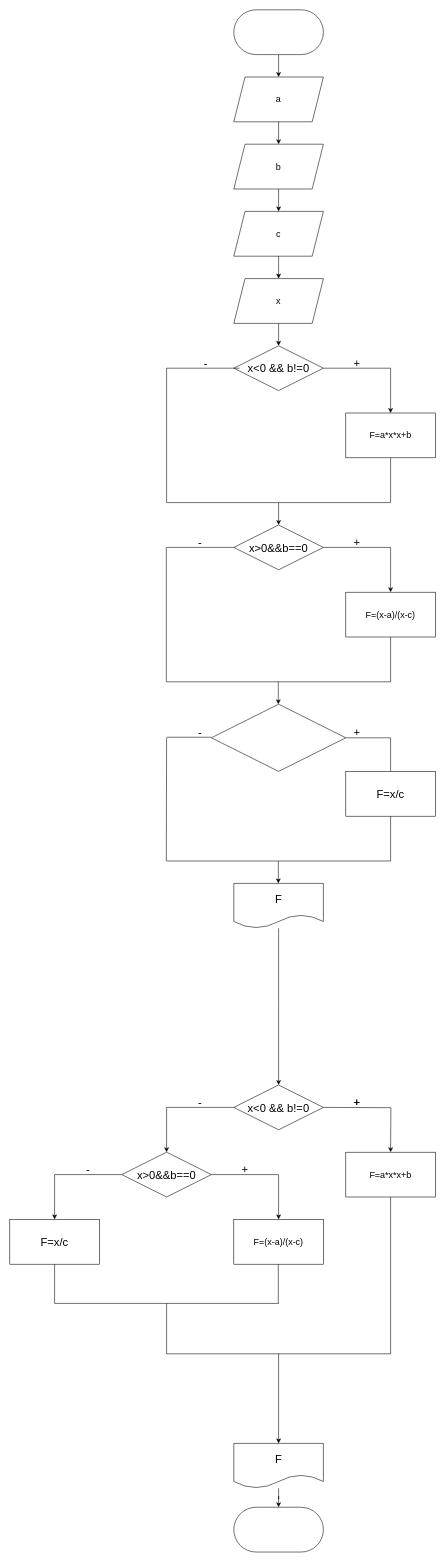
This 445x1562 diagram has some shape labels left out. Here are the shapes that lost their labels. From the top down, the box of each, then its label:
(233, 9, 323, 55): Початок
(211, 704, 346, 771): !(x<0&&!b=0)&&!(x>0&&b==0)
(233, 1507, 323, 1552): Кінець
